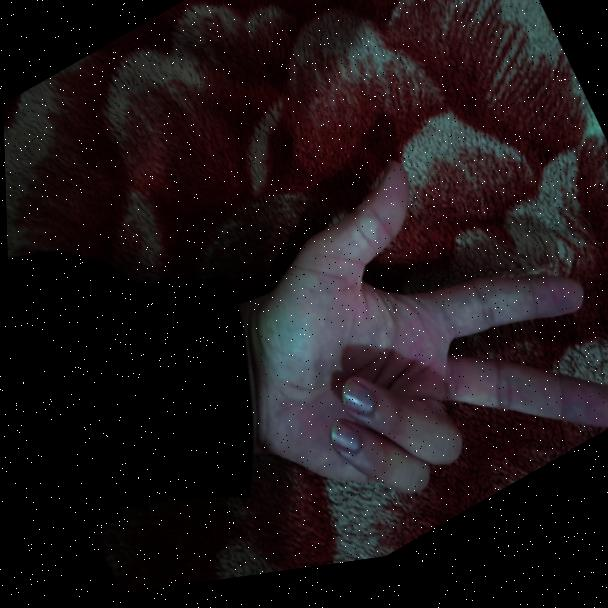three: (194, 101, 608, 587)
